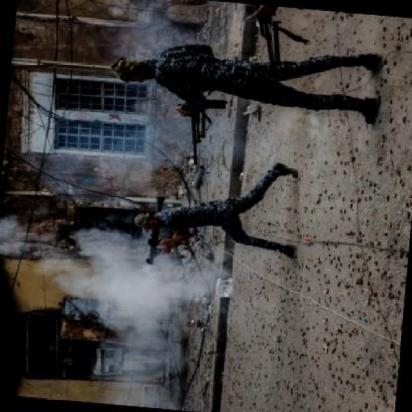Gun: (178, 86, 225, 168)
